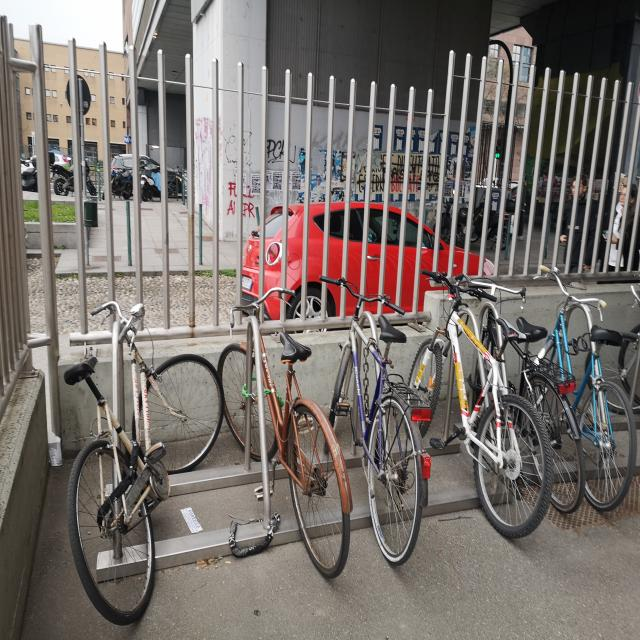Bicycle: (53, 268, 220, 634), (402, 224, 552, 593), (213, 293, 348, 602), (332, 241, 424, 594), (454, 302, 578, 532), (544, 242, 632, 547), (624, 279, 640, 399)
